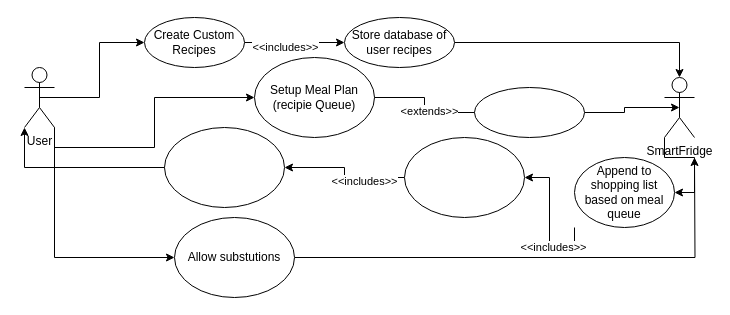
Some shapes in this 730 by 315 pixel diagram are drawn without their labels. The shapes that lost their labels are listed below. From the top down, each one's centre as x and y in pixels, then its label:
At point (529, 112): "Sort recipes based on criteria tags".
At point (224, 167): "Sort recipe DB based on availble ingredients".
At point (464, 177): "Identify ingredients missing from a recipe".
